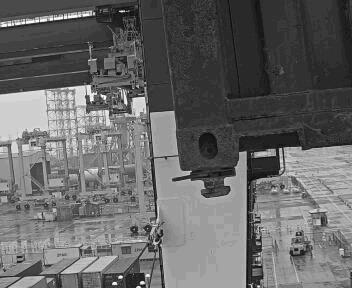twist_lock_1: (150, 166, 208, 205)
